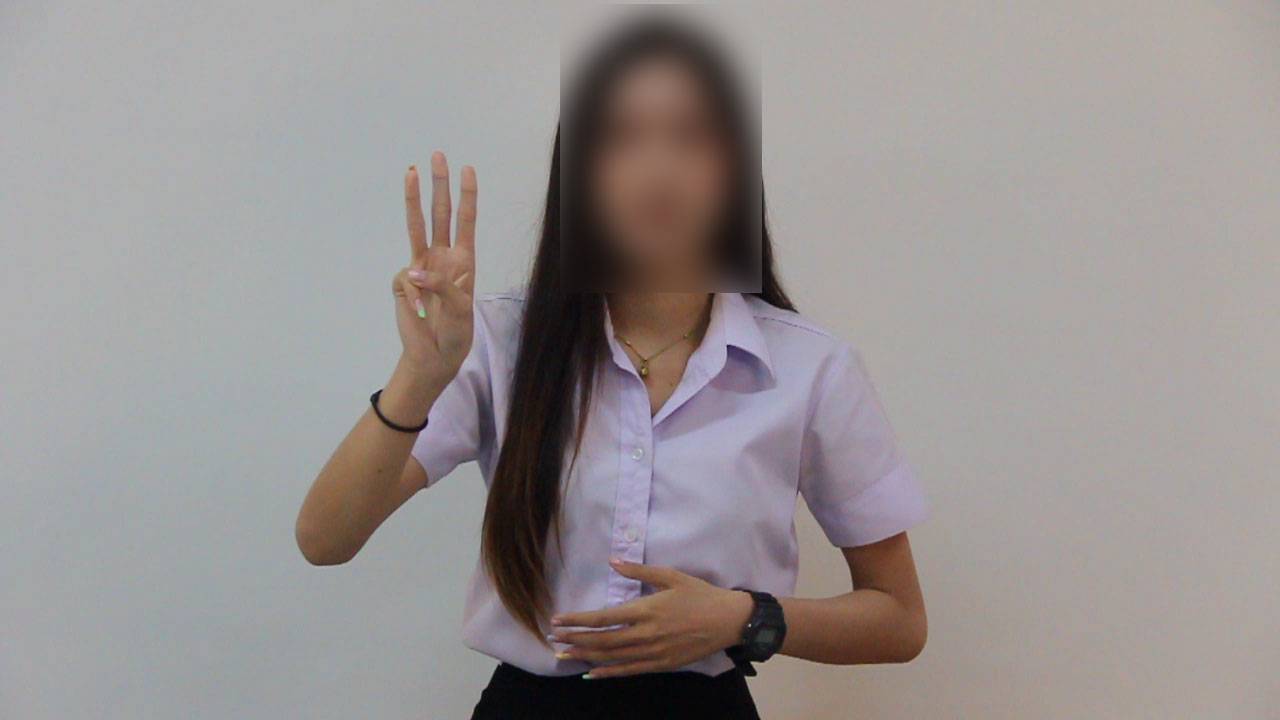wor: (385, 144, 487, 389)
